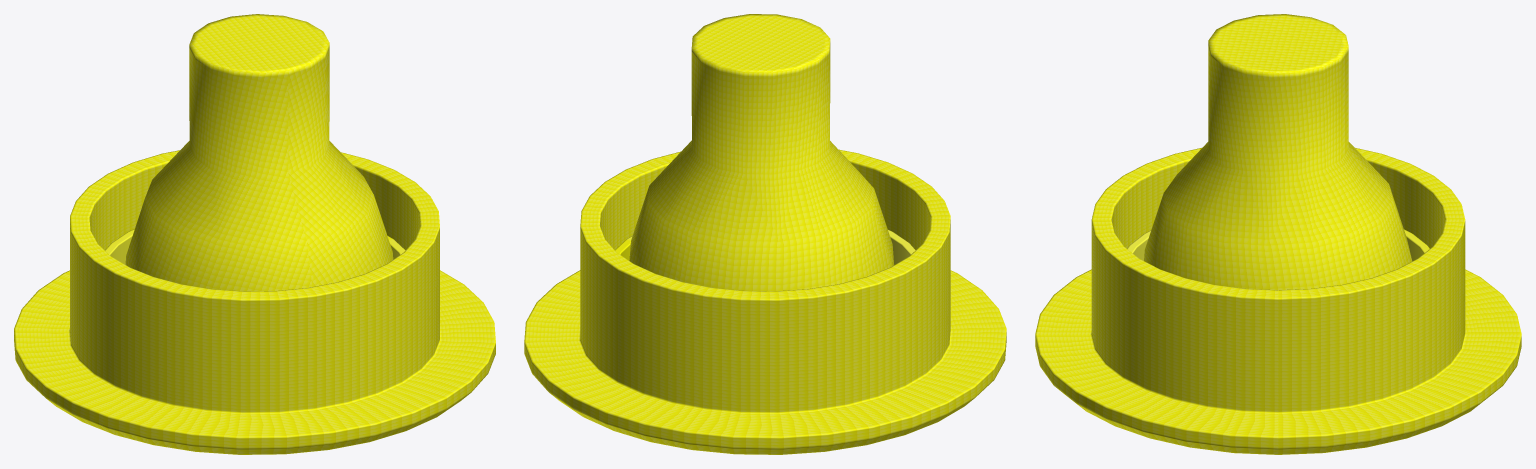
The model's file is Lampara.obj.
The picture shows the model from 3 angles, left to right: view 1: azimuth 30°, elevation 25°; view 2: azimuth 150°, elevation 25°; view 3: azimuth 270°, elevation 25°; orthographic projection.
Parts seen in each view (by area): view 1: Rectangle042, Bulb_GU10_led_004, Rectangle043; view 2: Rectangle042, Bulb_GU10_led_004, Rectangle043; view 3: Rectangle042, Bulb_GU10_led_004, Rectangle043.
Part boxes in pixels (<box>): Rectangle042: <box>14,150,495,454</box>; Bulb_GU10_led_004: <box>125,14,393,291</box>; Rectangle043: <box>105,229,405,264</box>; Rectangle042: <box>524,149,1006,454</box>; Bulb_GU10_led_004: <box>629,14,894,291</box>; Rectangle043: <box>615,230,915,264</box>; Rectangle042: <box>1035,148,1521,454</box>; Bulb_GU10_led_004: <box>1144,14,1412,290</box>; Rectangle043: <box>1127,229,1429,261</box>.
Bounding box in the file's own units: 2.77 × 1.98 × 2.77.
1 material, 1 textured.
